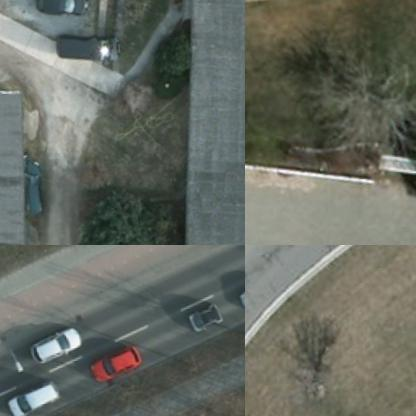car: (51, 27, 117, 64), (85, 346, 144, 384), (5, 383, 61, 415), (30, 332, 80, 364), (186, 301, 226, 334), (34, 0, 91, 23)
